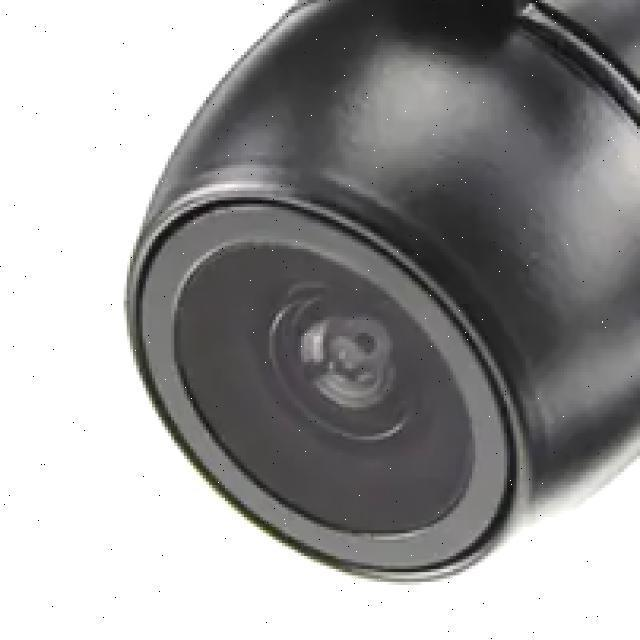spy camera: (119, 171, 536, 604)
